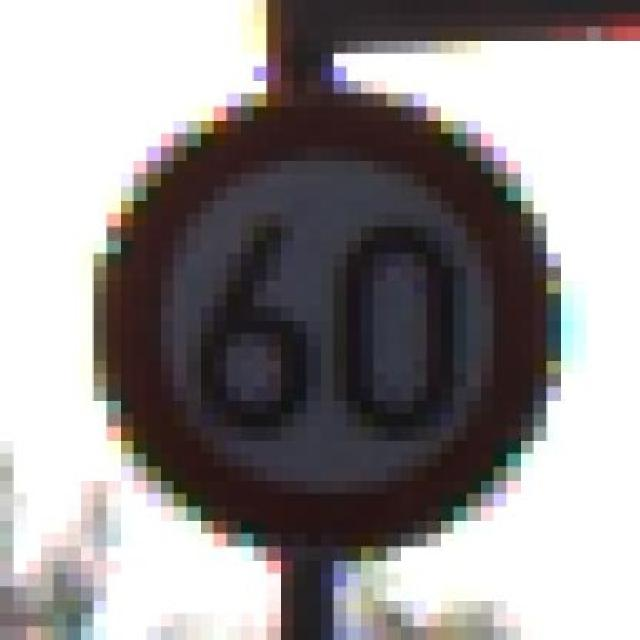forb_speed_over_60: (114, 100, 535, 546)
